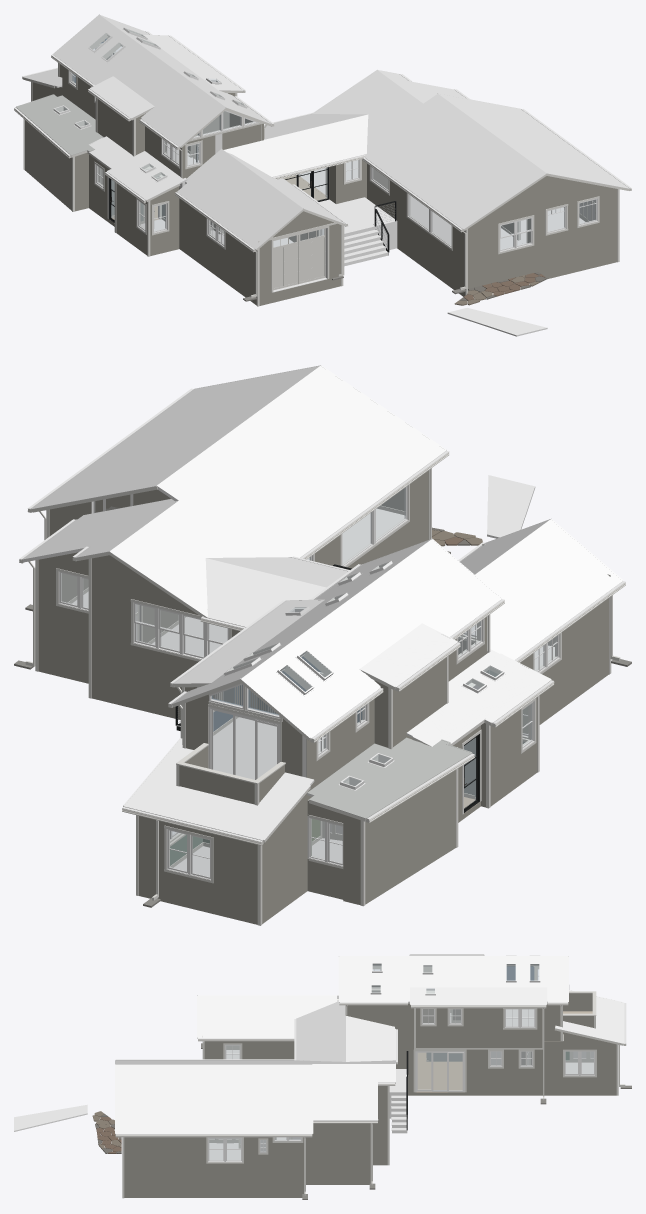
3 renders of one model, top to bottom at view 1: azimuth 30°, elevation 25°; view 2: azimuth 150°, elevation 25°; view 3: azimuth 270°, elevation 25°, orthographic. The views are drawn at different scales.
Visible parts, largest first — view 1: roofs|L1|comp-shingle-arch, walls|L1|hardie-lap#paint-ext-body, walls|L0|hardie-lap#paint-ext-body, walls|L2|hardie-lap#paint-ext-body, trim|-|hardie-trim#paint-ext-trim, roofs|L1|modbit-torchdown, glass|L1|glass, trim|-|comp-shingle-arch, trim|-|aluminum-gutter, walls|LG|hardie-lap#paint-ext-body, floors|L1|oak-red-lauzon-vela, trim|-|gutter-guard (+22 smaller); view 2: roofs|L1|comp-shingle-arch, walls|L0|hardie-lap#paint-ext-body, walls|L1|hardie-lap#paint-ext-body, walls|L2|hardie-lap#paint-ext-body, roofs|L1|modbit-torchdown, glass|L1|glass, trim|-|aluminum-gutter, trim|-|comp-shingle-arch, trim|-|hardie-trim#paint-ext-trim, trim|-|gutter-guard, floors|L2|oak-red-lauzon-vela, floors|L1|oak-red-lauzon-vela (+20 smaller); view 3: roofs|L1|comp-shingle-arch, walls|L1|hardie-lap#paint-ext-body, walls|L0|hardie-lap#paint-ext-body, walls|L2|hardie-lap#paint-ext-body, trim|-|comp-shingle-arch, trim|-|aluminum-gutter, trim|-|hardie-trim#paint-ext-trim, walls|LG|hardie-lap#paint-ext-body, trim|-|gutter-guard, floors|L0|stone-tile-24, site|-|paver-tumbled, glass|L0|glass (+18 smaller).
Boxes of the visible parts, box(x1,y1,x2,y2) form: roofs|L1|comp-shingle-arch: box(24, 15, 628, 248); walls|L1|hardie-lap#paint-ext-body: box(329, 160, 617, 296); walls|L0|hardie-lap#paint-ext-body: box(25, 82, 256, 305); walls|L2|hardie-lap#paint-ext-body: box(59, 53, 263, 178); trim|-|hardie-trim#paint-ext-trim: box(68, 70, 599, 292); roofs|L1|modbit-torchdown: box(17, 94, 103, 154); glass|L1|glass: box(346, 160, 595, 249); trim|-|comp-shingle-arch: box(23, 14, 629, 249); trim|-|aluminum-gutter: box(14, 55, 631, 252); walls|LG|hardie-lap#paint-ext-body: box(259, 167, 340, 305); floors|L1|oak-red-lauzon-vela: box(300, 160, 585, 249); trim|-|gutter-guard: box(14, 31, 631, 249); roofs|L1|comp-shingle-arch: box(23, 366, 621, 839); walls|L0|hardie-lap#paint-ext-body: box(139, 598, 608, 924); walls|L1|hardie-lap#paint-ext-body: box(38, 470, 428, 719); walls|L2|hardie-lap#paint-ext-body: box(179, 616, 487, 804); roofs|L1|modbit-torchdown: box(307, 737, 470, 817); glass|L1|glass: box(61, 487, 405, 656); trim|-|aluminum-gutter: box(19, 452, 625, 845); trim|-|comp-shingle-arch: box(22, 365, 623, 840); trim|-|hardie-trim#paint-ext-trim: box(56, 484, 561, 883); trim|-|gutter-guard: box(19, 388, 625, 841); floors|L2|oak-red-lauzon-vela: box(213, 717, 323, 779); floors|L1|oak-red-lauzon-vela: box(72, 508, 405, 656); roofs|L1|comp-shingle-arch: box(115, 955, 623, 1133); walls|L1|hardie-lap#paint-ext-body: box(124, 1086, 387, 1197); walls|L0|hardie-lap#paint-ext-body: box(396, 1032, 616, 1095); walls|L2|hardie-lap#paint-ext-body: box(345, 993, 593, 1047); trim|-|comp-shingle-arch: box(115, 954, 624, 1134); trim|-|aluminum-gutter: box(115, 1002, 626, 1137); trim|-|hardie-trim#paint-ext-trim: box(206, 1008, 596, 1163); walls|LG|hardie-lap#paint-ext-body: box(204, 1041, 294, 1059); trim|-|gutter-guard: box(115, 954, 626, 1134); floors|L0|stone-tile-24: box(415, 1052, 464, 1092); site|-|paver-tumbled: box(14, 1104, 87, 1131); glass|L0|glass: box(491, 1052, 593, 1073).
Bounding box in the file's own units: 69.8 × 23.52 × 109.
